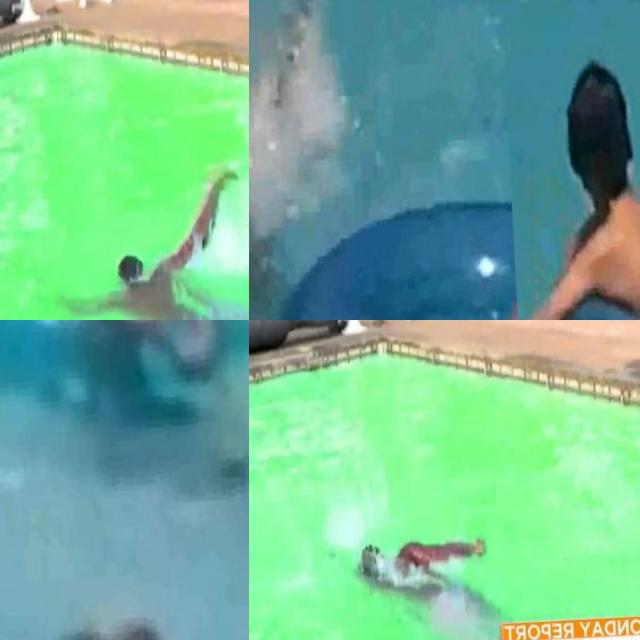drowning: (249, 0, 359, 247), (88, 163, 249, 320), (44, 607, 113, 640)
swimming: (503, 43, 640, 320), (338, 502, 528, 632)
